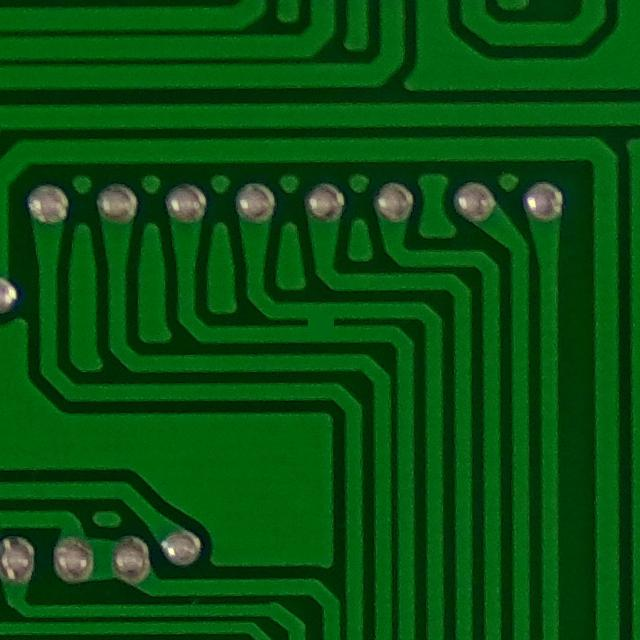short: (287, 292, 354, 348)
